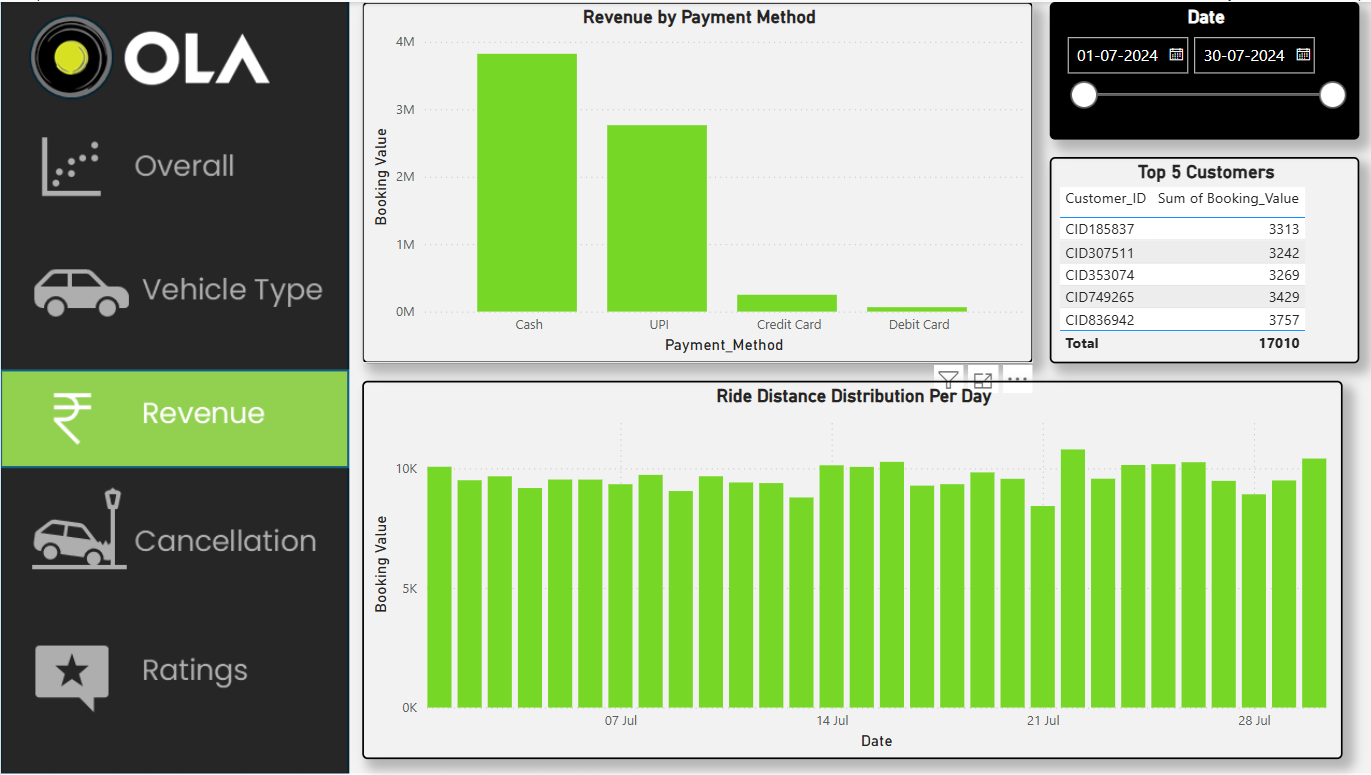

What the dashboard file says about the page in this screenshot:
{"tool":"powerbi","page":{"name":"Revenue","canvas":[1280,720],"ordinal":2},"visuals":[{"type":"actionButton","box":[0,208,320,96],"z":0},{"type":"actionButton","box":[0,336,320,96],"z":1000},{"type":"actionButton","box":[0,464,320,80],"z":2000},{"type":"actionButton","box":[0,592,320,80],"z":3000},{"type":"actionButton","box":[0,112,320,80],"z":4000},{"type":"columnChart","title":"Revenue by Payment Method","fields":{"Y":["Sum(ola bookings.Booking_Value)"],"Category":["ola bookings.Payment_Method"]},"box":[336,0,624,336],"z":5000},{"type":"columnChart","title":"Ride Distance Distribution Per Day","fields":{"Y":["Sum(ola bookings.Ride_Distance)"],"Category":["ola bookings.Date"]},"box":[336,352,912,352],"z":6000},{"type":"slicer","title":"Date","fields":{"Values":["ola bookings.Date"]},"box":[976,0,288,128],"z":7000},{"type":"tableEx","title":"Top 5 Customers","fields":{"Values":["ola bookings.Customer_ID","Sum(ola bookings.Booking_Value)"]},"box":[976,144,288,192],"z":8000}]}

Visuals, with their boxes in screenshot pixels (x1, y1, x2, y2), scaled from the page's 1280x720 canvas onto the 1371x775 screenshot:
actionButton: [0, 224, 343, 327]
actionButton: [0, 362, 343, 465]
actionButton: [0, 499, 343, 586]
actionButton: [0, 637, 343, 723]
actionButton: [0, 121, 343, 207]
"Revenue by Payment Method" columnChart: [360, 0, 1028, 362]
"Ride Distance Distribution Per Day" columnChart: [360, 379, 1337, 758]
"Date" slicer: [1045, 0, 1354, 138]
"Top 5 Customers" tableEx: [1045, 155, 1354, 362]
